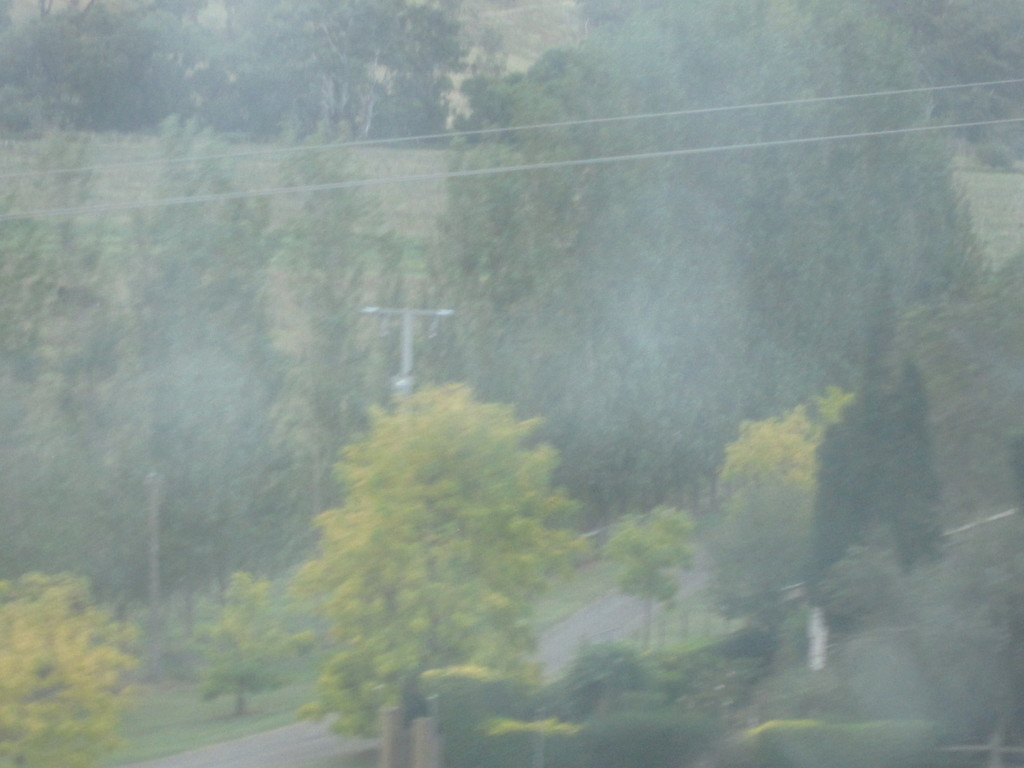Tree: (435, 0, 993, 531), (0, 113, 430, 678), (598, 239, 1024, 768), (288, 377, 599, 768), (0, 0, 480, 143), (0, 571, 148, 768), (177, 575, 293, 715)
